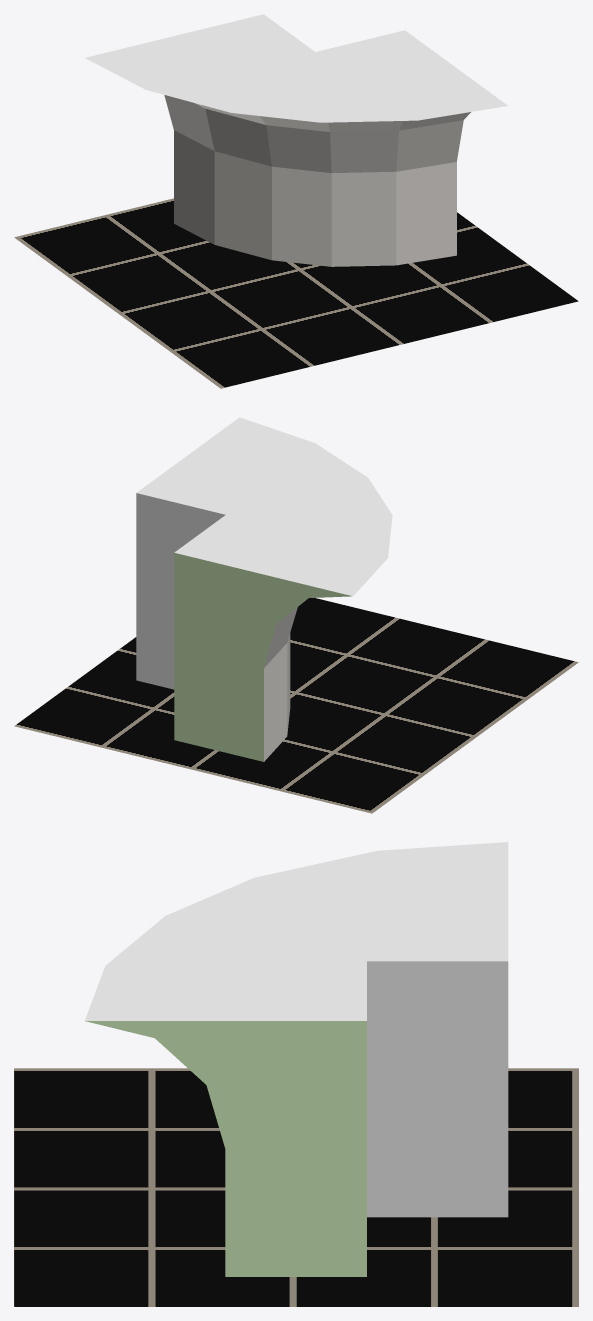
The model's file is Wall_Curve_Outer_3x3_Top.glb.
3 views of the same model, one above another, from view 1: azimuth 30°, elevation 25°; view 2: azimuth 150°, elevation 25°; view 3: azimuth 270°, elevation 25° (orthographic). The views are drawn at different scales.
Parts seen in each view (by area): view 1: Wall_Curve_Outer_3x3_Top, Floor; view 2: Wall_Curve_Outer_3x3_Top, Floor; view 3: Wall_Curve_Outer_3x3_Top, Floor.
Part boxes in pixels (left/top/right/bottom): Wall_Curve_Outer_3x3_Top: left=85, top=14, right=507, bottom=266; Floor: left=14, top=198, right=578, bottom=388; Wall_Curve_Outer_3x3_Top: left=136, top=417, right=392, bottom=761; Floor: left=14, top=598, right=578, bottom=813; Wall_Curve_Outer_3x3_Top: left=85, top=842, right=508, bottom=1276; Floor: left=14, top=1068, right=578, bottom=1306.
Bounding box in the file's own units: 400 × 200 × 400.
5 materials, 1 textured.
